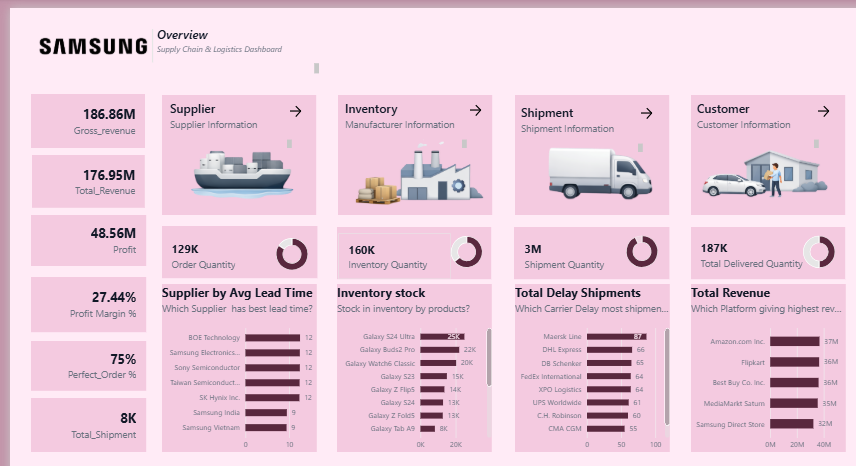

The page's visual inventory and layout, read from the dashboard file:
{"tool":"powerbi","page":{"name":"Page 1","canvas":[1920,1080],"ordinal":0},"visuals":[{"type":"shape","box":[252.9,144.3,257,200],"z":0},{"type":"shape","box":[1135.7,144.3,257,200],"z":1000},{"type":"shape","box":[841.4,144.3,257,200],"z":2000},{"type":"shape","box":[547.1,144.3,257,200],"z":3000},{"type":"image","box":[282.9,201.4,198.6,132.9],"z":4000},{"type":"image","box":[881.4,175.7,198.6,187.1],"z":5000},{"type":"image","box":[542.5,192.5,262.9,152.9],"z":6000},{"type":"image","box":[1145,201.7,236.7,143.3],"z":7000},{"type":"actionButton","box":[436,144,77.1,57.1],"z":8000},{"type":"actionButton","box":[1316,144,77.1,57.1],"z":9000},{"type":"actionButton","box":[1022,146,77.1,57.1],"z":10000},{"type":"actionButton","box":[736,142,77.1,57.1],"z":11000},{"type":"textbox","box":[1433.3,303.3,280,30],"z":12000},{"type":"textbox","title":"Supplier","box":[267.1,152.9,202.9,80],"z":13000},{"type":"textbox","title":"Customer","box":[1144.3,152.9,202.9,80],"z":14000},{"type":"textbox","title":"Shipment","box":[851.4,160,202.9,80],"z":15000},{"type":"textbox","title":"Inventory","box":[558.6,152.9,202.9,80],"z":16000},{"type":"textbox","title":"Overview","box":[244.3,30,270,80],"z":17000},{"type":"shape","box":[212.9,34.3,48.6,55.7],"z":18000},{"type":"image","box":[35.7,32.9,198.6,60],"z":19000},{"type":"cardVisual","fields":{"Data":["MeasuresTable.Total_Revenue"]},"box":[36.7,245,188.3,88.3],"z":20000},{"type":"cardVisual","fields":{"Data":["MeasuresTable.Perfect_Order %"]},"box":[35,555,191.7,83.3],"z":21000},{"type":"cardVisual","fields":{"Data":["MeasuresTable.Profit"]},"box":[35,345,191.7,85],"z":22000},{"type":"cardVisual","fields":{"Data":["MeasuresTable.Total_Shipment"]},"box":[35,650,191.7,90],"z":23000},{"type":"cardVisual","fields":{"Data":["Sum(fact_sales.gross_revenue)"]},"box":[35,143.3,190,90],"z":24000},{"type":"cardVisual","fields":{"Data":["MeasuresTable.Profit Margin %"]},"box":[35,448.3,191.7,91.7],"z":25000},{"type":"shape","box":[545.7,364.3,257.1,87.1],"z":26000},{"type":"shape","box":[840,364.3,258.6,87.1],"z":27000},{"type":"shape","box":[1135.7,364.3,257.1,87.1],"z":28000},{"type":"shape","box":[252.9,362.9,258.6,87.1],"z":29000},{"type":"cardVisual","fields":{"Data":["MeasuresTable.Order_QTY"]},"box":[252.9,374.3,188.6,77.1],"z":30000},{"type":"cardVisual","fields":{"Data":["MeasuresTable.Inventory_Value"]},"box":[547.1,374.3,188.6,77.1],"z":31000},{"type":"cardVisual","fields":{"Data":["MeasuresTable.Total_Shipment_Quantity"]},"box":[841.4,374.3,188.6,77.1],"z":32000},{"type":"cardVisual","fields":{"Data":["MeasuresTable.Total_Delivered_Quantity"]},"box":[1135.7,372.9,202.9,77.1],"z":33000},{"type":"clusteredBarChart","title":"Supplier by Avg Lead Time","fields":{"Category":["dim_supplier.supplier_name"],"Y":["MeasuresTable.Avg_Lead_Time"]},"box":[252.9,460,258,280],"z":34000},{"type":"clusteredBarChart","title":"Inventory stock","fields":{"Category":["dim_product.product_name"],"Y":["MeasuresTable.Inventory_Value"]},"box":[545.7,460,258,280],"z":35000},{"type":"clusteredBarChart","title":"Total Delay Shipments","fields":{"Category":["fact_shipment.carrier"],"Y":["MeasuresTable.Total_Delay"]},"box":[841.4,460,258,280],"z":36000},{"type":"clusteredBarChart","title":"Total Revenue","fields":{"Category":["dim_customer.customer_name"],"Y":["MeasuresTable.Total_Revenue"]},"box":[1135.7,460,258,280],"z":37000},{"type":"donutChart","fields":{"Y":["MeasuresTable.Inventory_Value","MeasuresTable.Safety_Stock"]},"box":[728.6,364.3,65.7,82.9],"z":38000},{"type":"donutChart","fields":{"Y":["MeasuresTable.Total_Shipment","MeasuresTable.Total_Delay"]},"box":[1020,365,66.7,81.7],"z":39000},{"type":"donutChart","fields":{"Y":["MeasuresTable.Total_Delivered_Quantity","MeasuresTable.Total_QTY_Delay"]},"box":[1314.3,364.3,67.1,82.9],"z":40000},{"type":"donutChart","fields":{"Y":["MeasuresTable.Order_QTY","MeasuresTable.Defect_Rate"]},"box":[434.3,377.1,70,67.1],"z":41000}]}

Visuals, with their boxes on the page's 1920x1080 design canvas (x1, y1, x2, y2). These are canvas units, not pixel positions in the 856x466 screenshot, which may show the page scaled, cropped or inside an application window:
shape: pyautogui.locateOnScreen(253, 144, 510, 344)
shape: pyautogui.locateOnScreen(1136, 144, 1393, 344)
shape: pyautogui.locateOnScreen(841, 144, 1098, 344)
shape: pyautogui.locateOnScreen(547, 144, 804, 344)
image: pyautogui.locateOnScreen(283, 201, 482, 334)
image: pyautogui.locateOnScreen(881, 176, 1080, 363)
image: pyautogui.locateOnScreen(542, 192, 805, 345)
image: pyautogui.locateOnScreen(1145, 202, 1382, 345)
actionButton: pyautogui.locateOnScreen(436, 144, 513, 201)
actionButton: pyautogui.locateOnScreen(1316, 144, 1393, 201)
actionButton: pyautogui.locateOnScreen(1022, 146, 1099, 203)
actionButton: pyautogui.locateOnScreen(736, 142, 813, 199)
textbox: pyautogui.locateOnScreen(1433, 303, 1713, 333)
"Supplier" textbox: pyautogui.locateOnScreen(267, 153, 470, 233)
"Customer" textbox: pyautogui.locateOnScreen(1144, 153, 1347, 233)
"Shipment" textbox: pyautogui.locateOnScreen(851, 160, 1054, 240)
"Inventory" textbox: pyautogui.locateOnScreen(559, 153, 762, 233)
"Overview" textbox: pyautogui.locateOnScreen(244, 30, 514, 110)
shape: pyautogui.locateOnScreen(213, 34, 262, 90)
image: pyautogui.locateOnScreen(36, 33, 234, 93)
cardVisual - MeasuresTable.Total_Revenue: pyautogui.locateOnScreen(37, 245, 225, 333)
cardVisual - MeasuresTable.Perfect_Order %: pyautogui.locateOnScreen(35, 555, 227, 638)
cardVisual - MeasuresTable.Profit: pyautogui.locateOnScreen(35, 345, 227, 430)
cardVisual - MeasuresTable.Total_Shipment: pyautogui.locateOnScreen(35, 650, 227, 740)
cardVisual - Sum(fact_sales.gross_revenue): pyautogui.locateOnScreen(35, 143, 225, 233)
cardVisual - MeasuresTable.Profit Margin %: pyautogui.locateOnScreen(35, 448, 227, 540)
shape: pyautogui.locateOnScreen(546, 364, 803, 451)
shape: pyautogui.locateOnScreen(840, 364, 1099, 451)
shape: pyautogui.locateOnScreen(1136, 364, 1393, 451)
shape: pyautogui.locateOnScreen(253, 363, 512, 450)
cardVisual - MeasuresTable.Order_QTY: pyautogui.locateOnScreen(253, 374, 442, 451)
cardVisual - MeasuresTable.Inventory_Value: pyautogui.locateOnScreen(547, 374, 736, 451)
cardVisual - MeasuresTable.Total_Shipment_Quantity: pyautogui.locateOnScreen(841, 374, 1030, 451)
cardVisual - MeasuresTable.Total_Delivered_Quantity: pyautogui.locateOnScreen(1136, 373, 1339, 450)
"Supplier by Avg Lead Time" clusteredBarChart: pyautogui.locateOnScreen(253, 460, 511, 740)
"Inventory stock" clusteredBarChart: pyautogui.locateOnScreen(546, 460, 804, 740)
"Total Delay Shipments" clusteredBarChart: pyautogui.locateOnScreen(841, 460, 1099, 740)
"Total Revenue" clusteredBarChart: pyautogui.locateOnScreen(1136, 460, 1394, 740)
donutChart - MeasuresTable.Inventory_Value x MeasuresTable.Safety_Stock: pyautogui.locateOnScreen(729, 364, 794, 447)
donutChart - MeasuresTable.Total_Shipment x MeasuresTable.Total_Delay: pyautogui.locateOnScreen(1020, 365, 1087, 447)
donutChart - MeasuresTable.Total_Delivered_Quantity x MeasuresTable.Total_QTY_Delay: pyautogui.locateOnScreen(1314, 364, 1381, 447)
donutChart - MeasuresTable.Order_QTY x MeasuresTable.Defect_Rate: pyautogui.locateOnScreen(434, 377, 504, 444)
